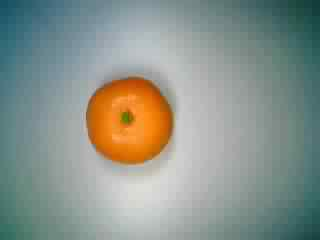orange: (79, 71, 175, 167)
